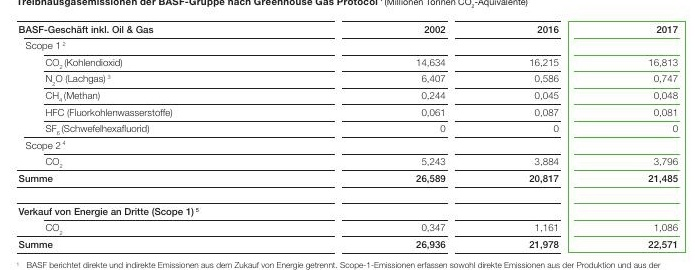table: (0, 0, 695, 270)
